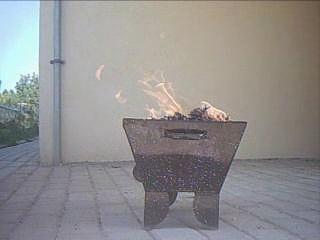fire: (119, 68, 183, 116), (201, 103, 224, 118)
